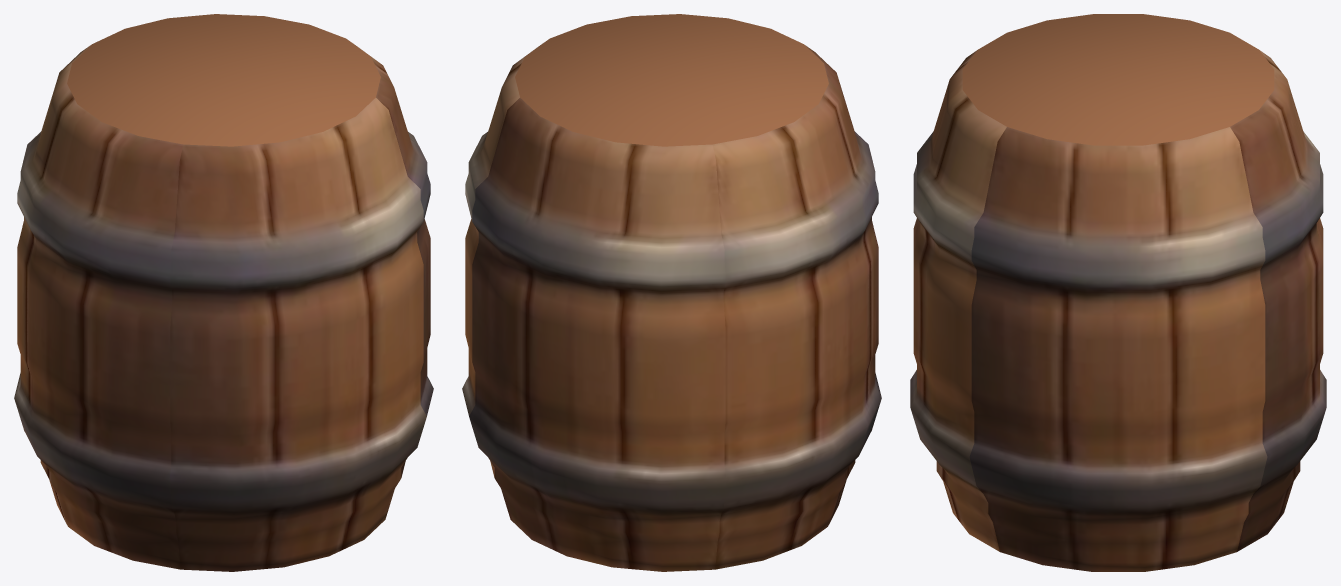
Rendered from town-barrel.glb.
3 renders of one model, left to right at view 1: azimuth 30°, elevation 25°; view 2: azimuth 150°, elevation 25°; view 3: azimuth 270°, elevation 25°, orthographic.
Visible parts, largest first — view 1: piece; view 2: piece; view 3: piece.
Boxes of the visible parts, x1,y1,x2,y2 form: piece: [14, 14, 433, 571]; piece: [462, 14, 881, 571]; piece: [910, 14, 1326, 571].
Size of the model in its own units: 0.784 by 0.9 by 0.784.
1 material, 1 textured.
